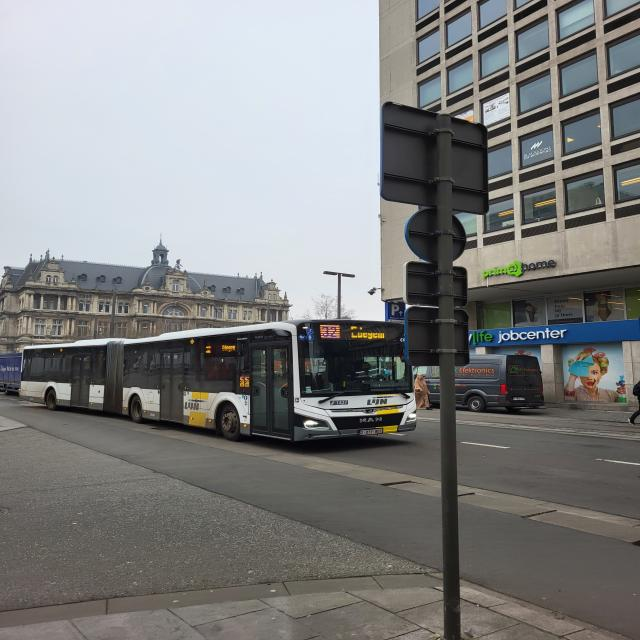bus-number: (320, 325, 340, 338)
